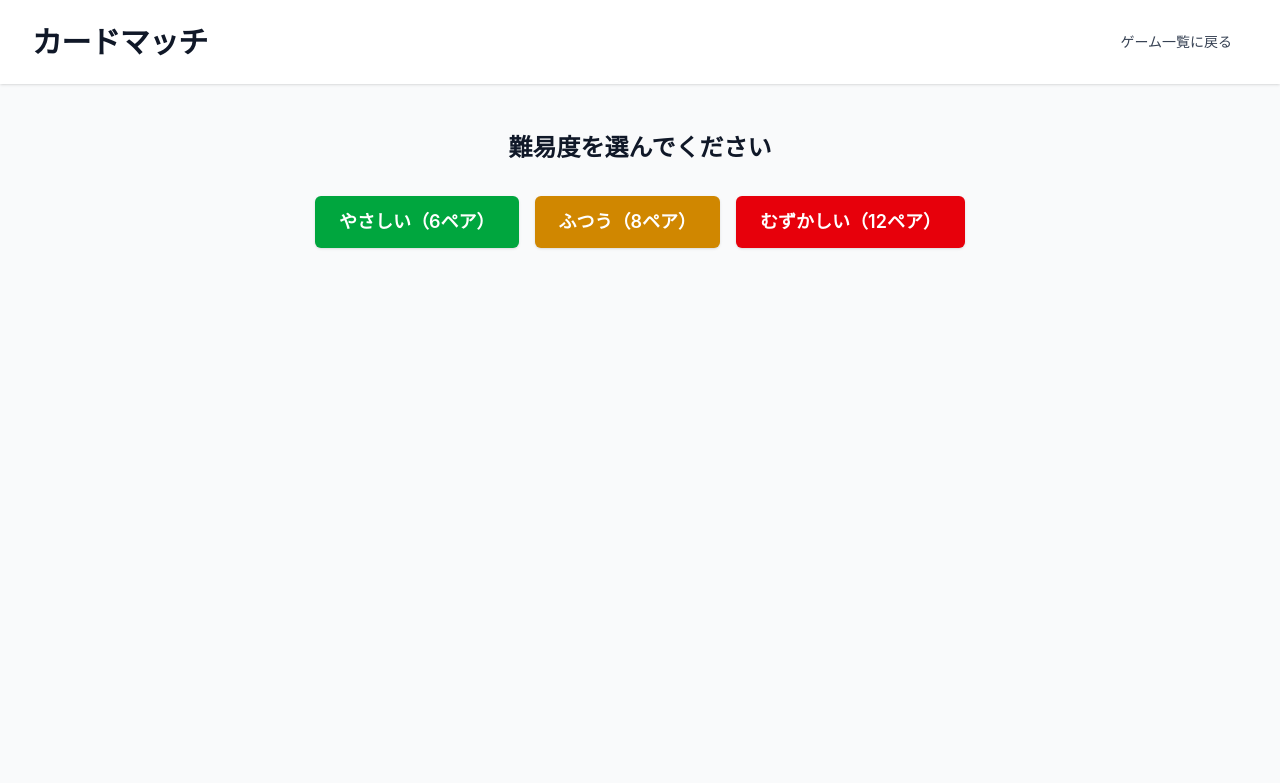
it: CardMatchGame › should start game with hard difficulty
Click the button "むずかしい（12ペア）" at (850, 222), box top-left (736, 196), bottom-right (965, 248)
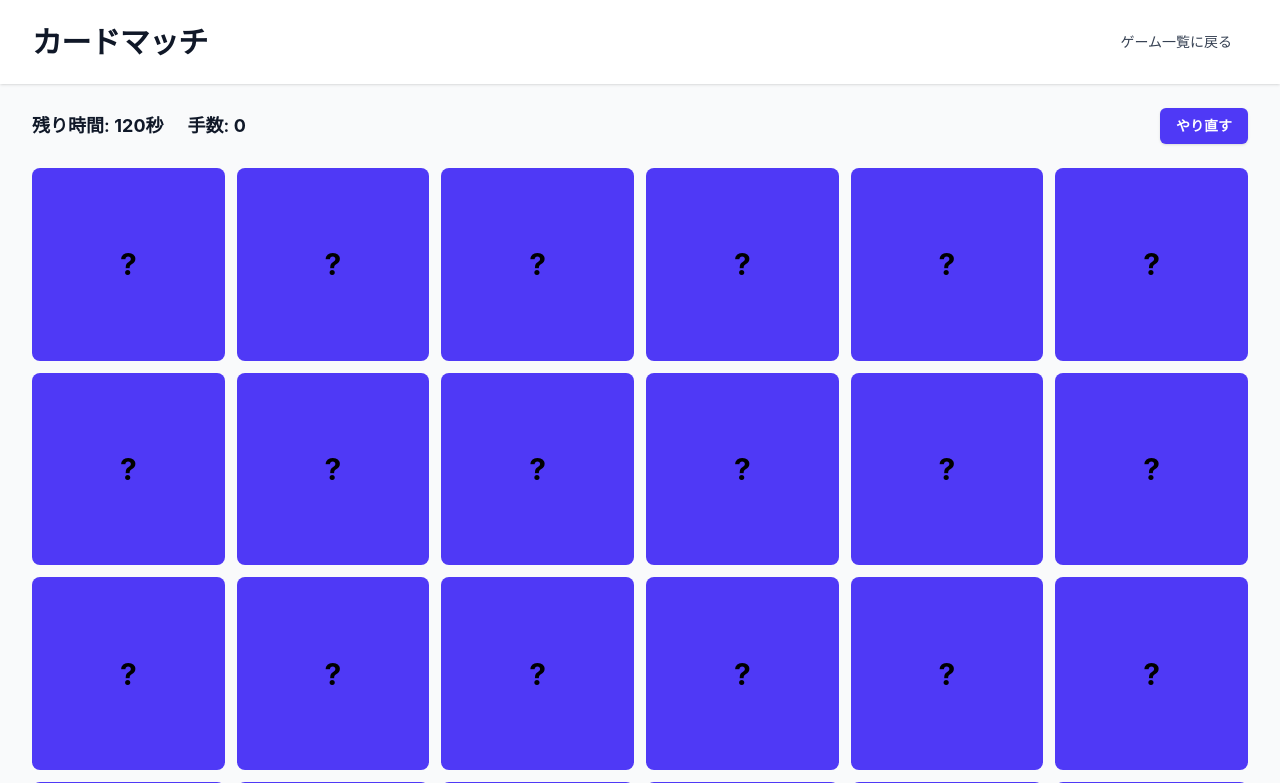
Result: the text "残り時間:" is shown at top-left (32, 115), bottom-right (114, 136)
Result: the number of buttons "?" is 24
